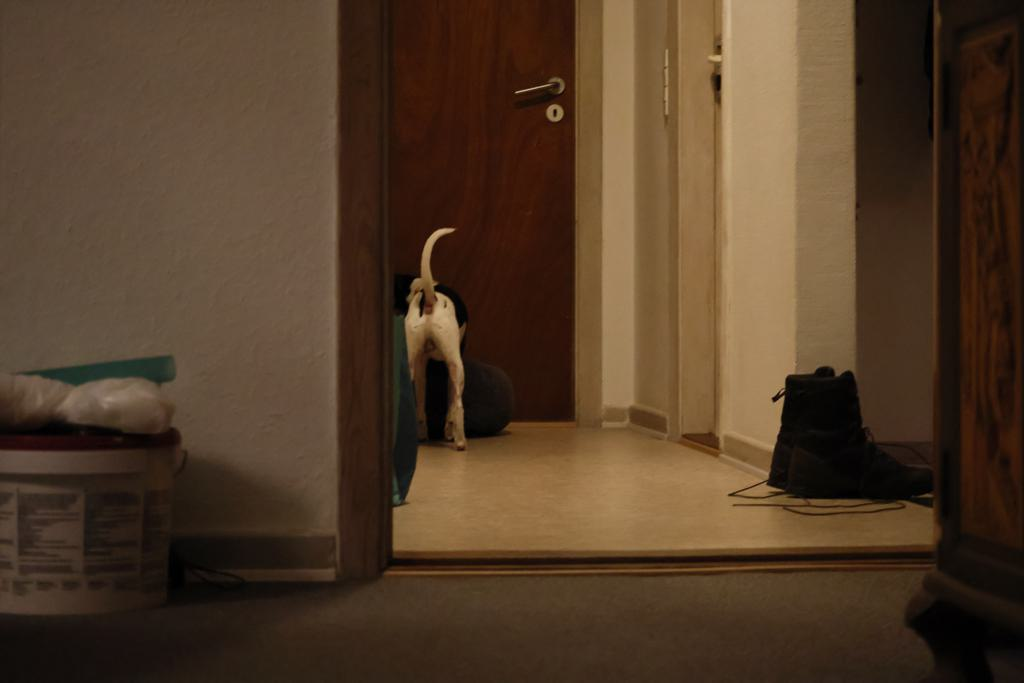Dog: (393, 222, 481, 457)
